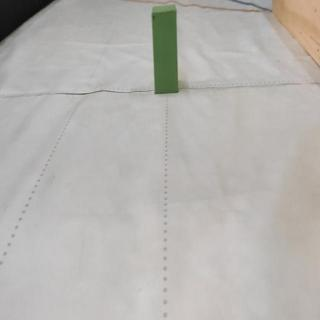greenbox: (151, 5, 180, 94)
